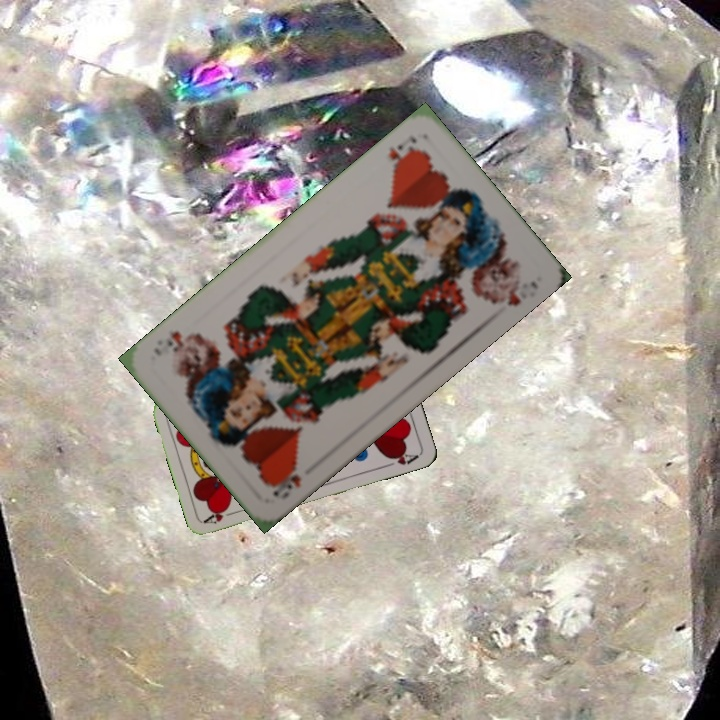HA: (201, 503, 241, 526)
HO: (267, 459, 304, 503), (384, 130, 421, 174)
